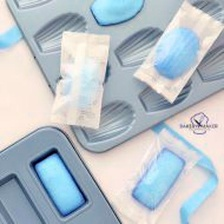snack: (127, 0, 224, 108), (44, 24, 113, 134)
